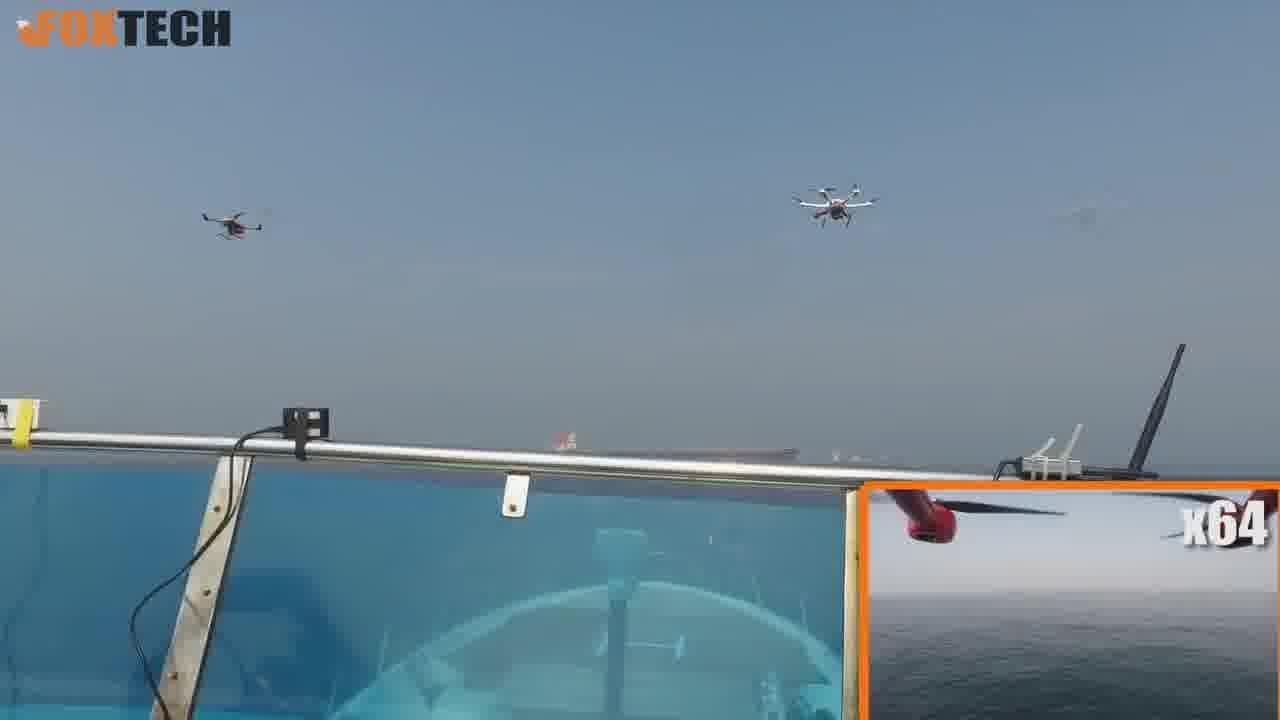drone: (789, 173, 878, 232), (198, 205, 264, 244)
